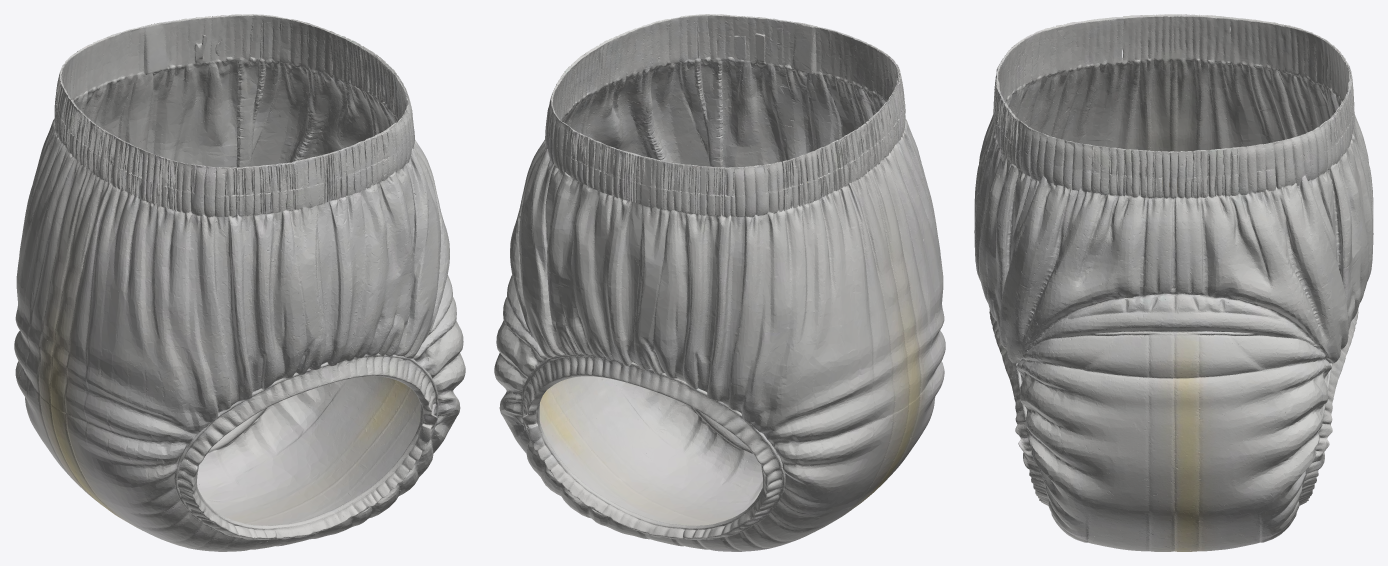
The model's file is diaper_model.glb.
3 renders of one model, left to right at view 1: azimuth 30°, elevation 25°; view 2: azimuth 150°, elevation 25°; view 3: azimuth 270°, elevation 25°, orthographic.
Parts seen in each view (by area): view 1: tripo_node_80f4ecda-9175-4701-a656-799ba3c7b4b1; view 2: tripo_node_80f4ecda-9175-4701-a656-799ba3c7b4b1; view 3: tripo_node_80f4ecda-9175-4701-a656-799ba3c7b4b1.
Boxes of the visible parts, x1,y1,x2,y2 form: tripo_node_80f4ecda-9175-4701-a656-799ba3c7b4b1: (14, 14, 465, 551); tripo_node_80f4ecda-9175-4701-a656-799ba3c7b4b1: (494, 14, 945, 551); tripo_node_80f4ecda-9175-4701-a656-799ba3c7b4b1: (974, 14, 1373, 551).
Size of the model in its own units: 0.8975 by 0.9999 by 0.8245.
Materials: 1 (1 with a texture image).
